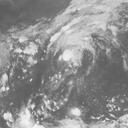cyclone: (43, 26, 92, 75)
